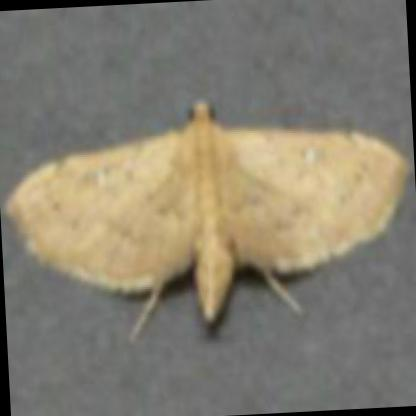Leaf Webber: (0, 98, 411, 345)
